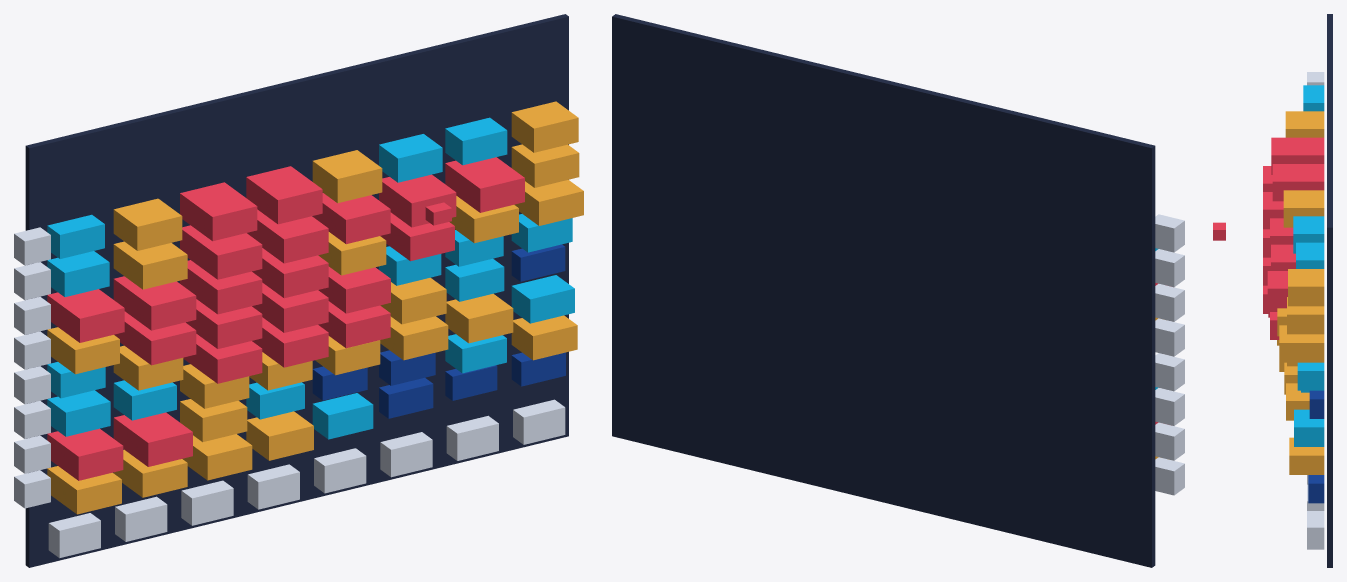
3 views of the same model, side by side, from view 1: azimuth 30°, elevation 25°; view 2: azimuth 150°, elevation 25°; view 3: azimuth 270°, elevation 25° (orthographic). The views are drawn at different scales.
Parts seen in each view (by area): view 1: transformer-attention-map; view 2: transformer-attention-map; view 3: transformer-attention-map.
Boxes of the visible parts, <box> form: transformer-attention-map: <box>14,14,583,567</box>; transformer-attention-map: <box>612,14,1184,567</box>; transformer-attention-map: <box>1213,14,1332,567</box>.
Bounding box in the file's own units: 7.22 × 5.2 × 1.66.
